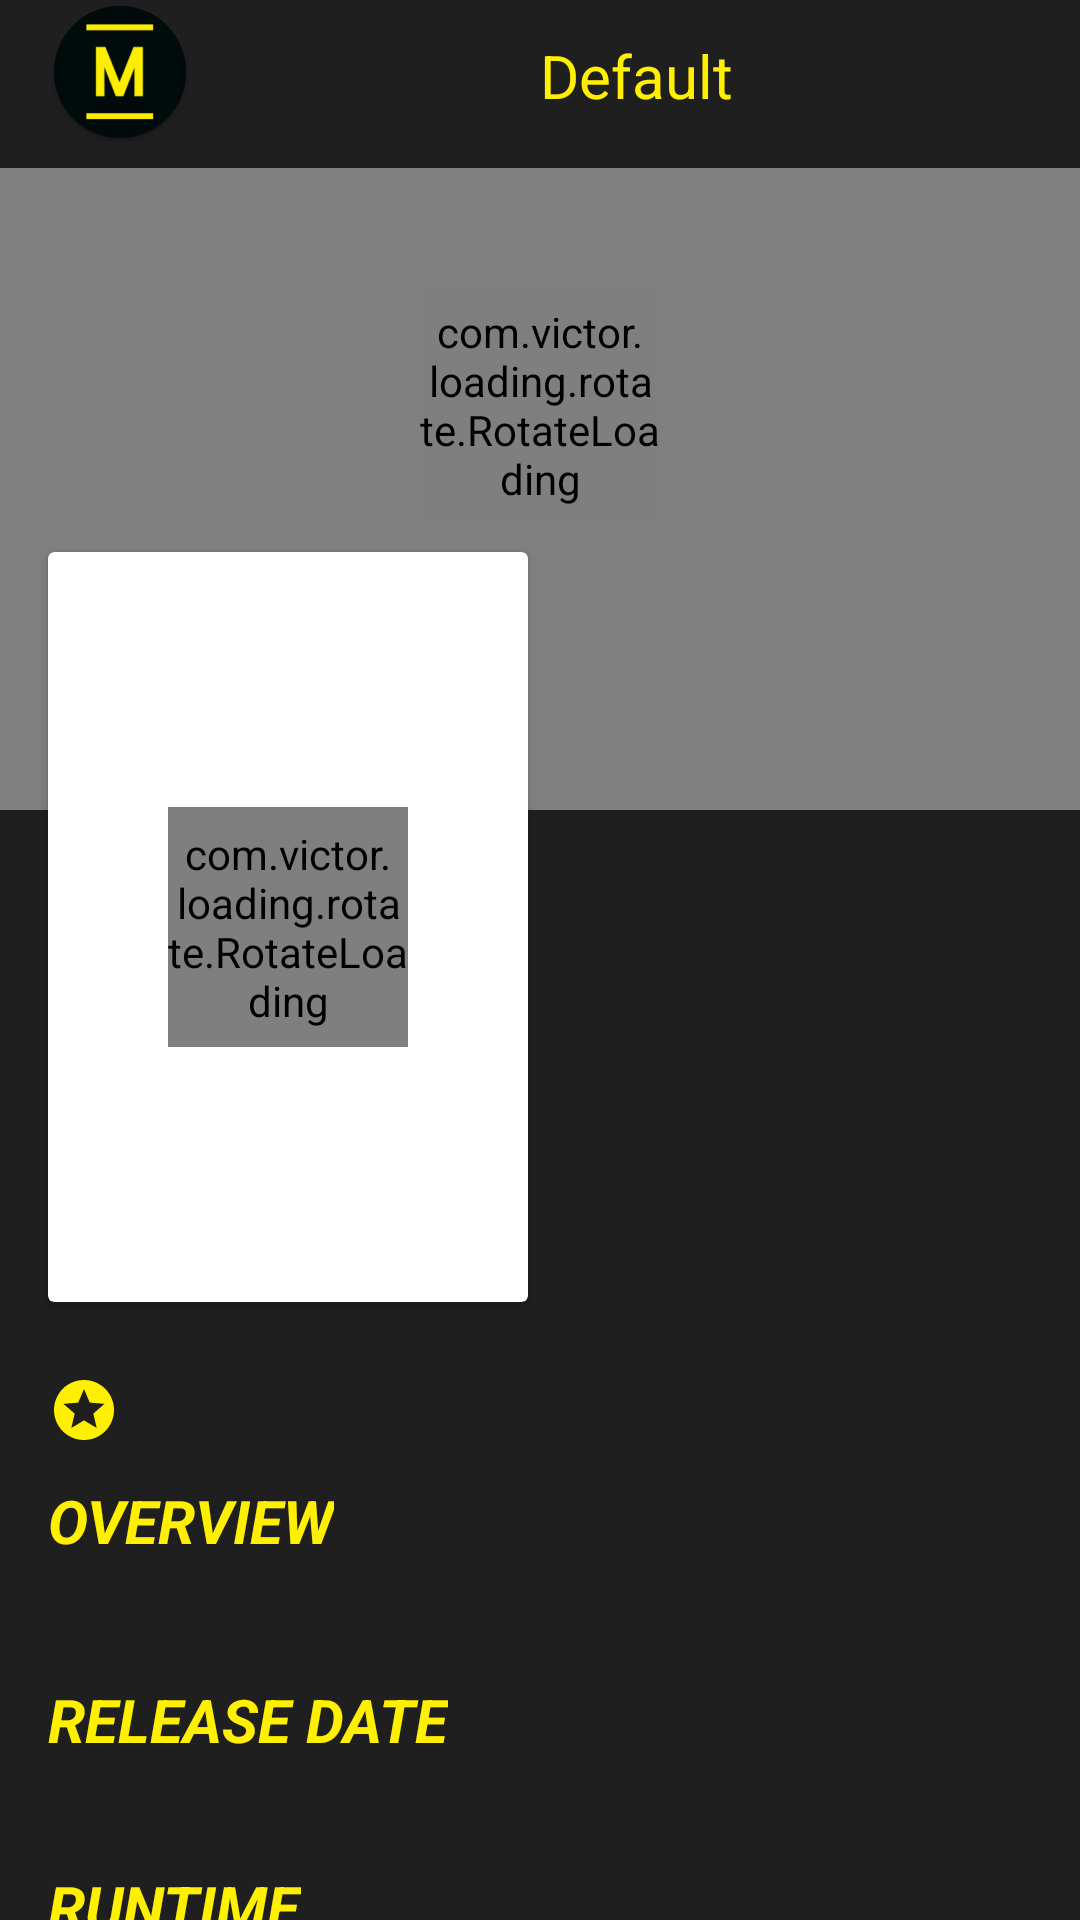

Where to tap for icons on this 1080x1920 app screen, as (x=x, y=y):
stars: (x=84, y=1410)
